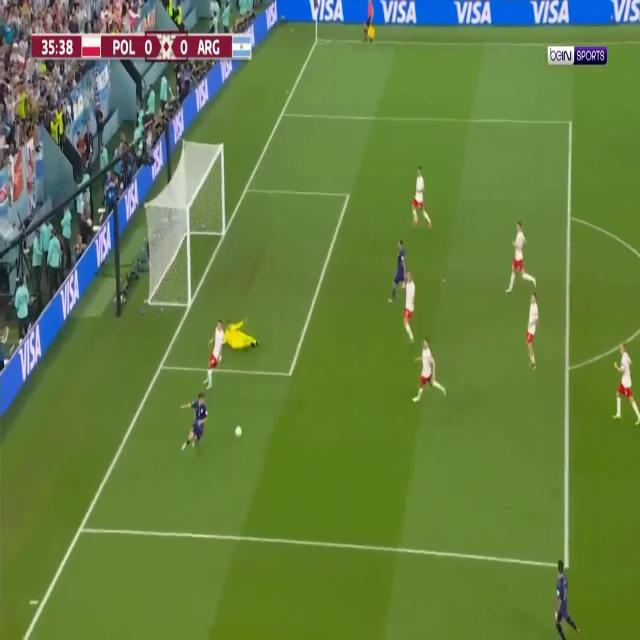ball: (234, 424, 243, 439)
team1: (554, 556, 582, 639), (178, 389, 210, 454), (388, 236, 407, 306)
team2: (612, 339, 640, 427), (412, 335, 447, 404), (506, 220, 538, 294), (202, 316, 225, 391), (411, 164, 433, 228), (525, 290, 542, 372), (403, 268, 419, 345)
